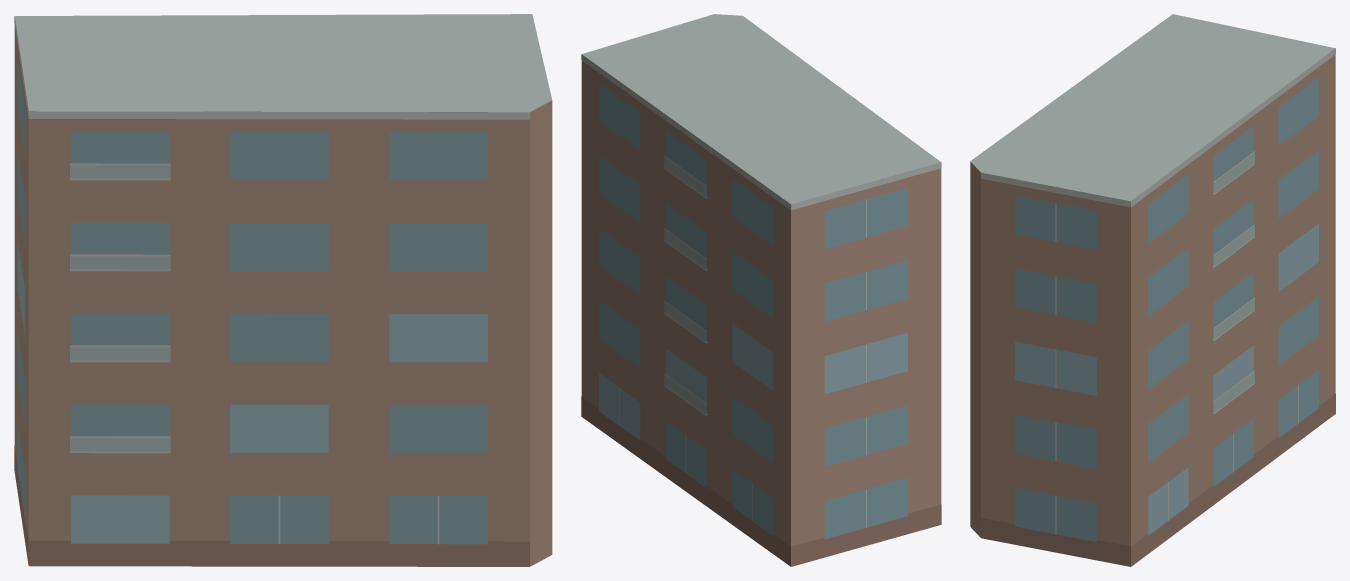
The model's file is survey-upis-32669211.glb.
3 renders of one model, left to right at view 1: azimuth 30°, elevation 25°; view 2: azimuth 150°, elevation 25°; view 3: azimuth 270°, elevation 25°, orthographic. The views are drawn at different scales.
Visible parts, largest first — view 1: survey-upis-32669211.tmp; view 2: survey-upis-32669211.tmp; view 3: survey-upis-32669211.tmp.
Boxes of the visible parts, bbox=[...] form: survey-upis-32669211.tmp: bbox=[14, 14, 552, 566]; survey-upis-32669211.tmp: bbox=[581, 14, 941, 566]; survey-upis-32669211.tmp: bbox=[970, 14, 1335, 566].
Size of the model in its own units: 16.27 by 14.8 by 13.43.
